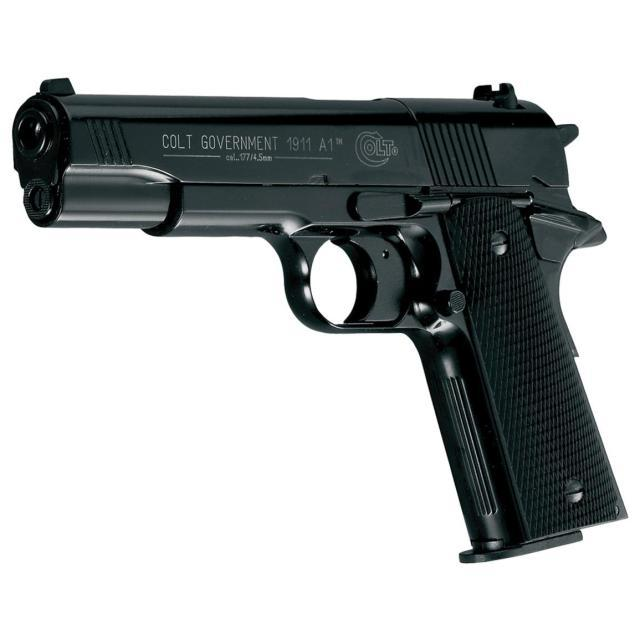Pistol: (6, 65, 639, 597)
